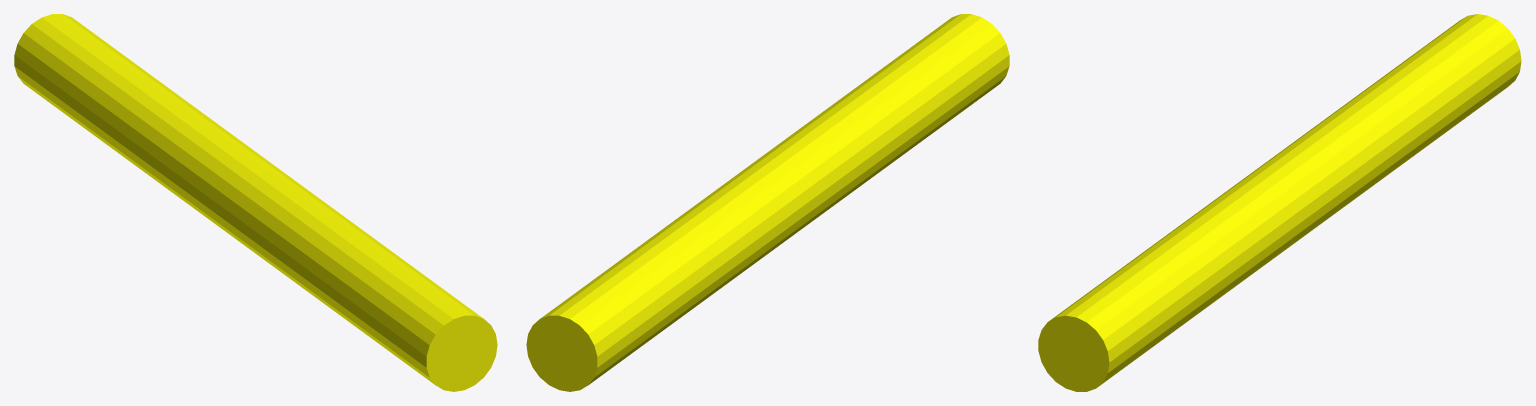
File: ModZhiGunGate.obj
The picture shows the model from 3 angles, left to right: view 1: azimuth 30°, elevation 25°; view 2: azimuth 150°, elevation 25°; view 3: azimuth 330°, elevation 25°; orthographic projection.
Visible parts, largest first — view 1: ModZhiGunGate; view 2: ModZhiGunGate; view 3: ModZhiGunGate.
Part boxes in pixels (<box>): ModZhiGunGate: <box>14,14,497,391</box>; ModZhiGunGate: <box>526,14,1009,391</box>; ModZhiGunGate: <box>1038,14,1521,391</box>.
Size of the model in its own units: 0.0994 by 0.0997 by 1.
